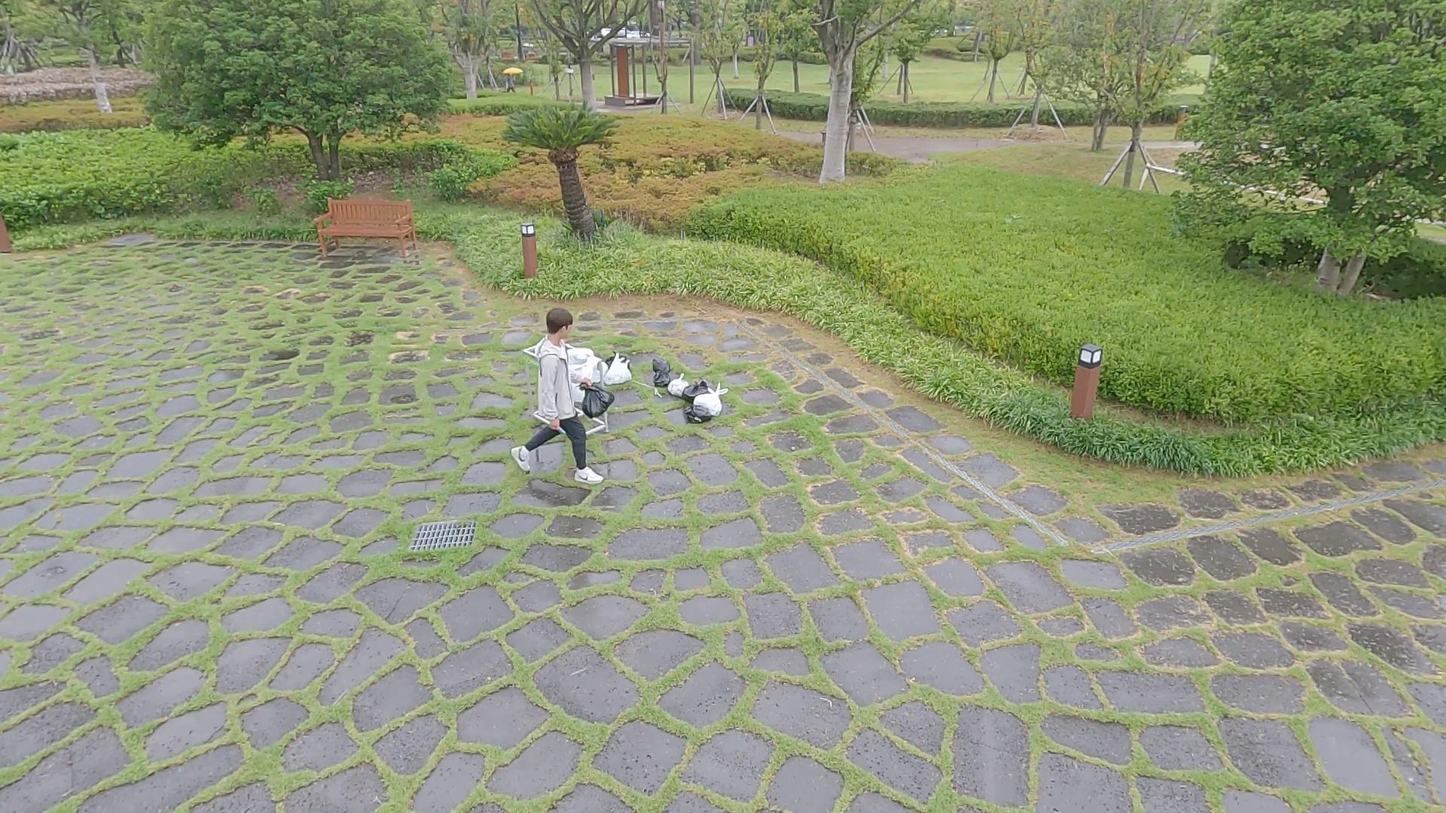person: (505, 308, 618, 485)
trash: (679, 379, 719, 428), (571, 377, 613, 421), (696, 382, 734, 426), (598, 350, 636, 392), (649, 357, 674, 390), (667, 371, 689, 403)
